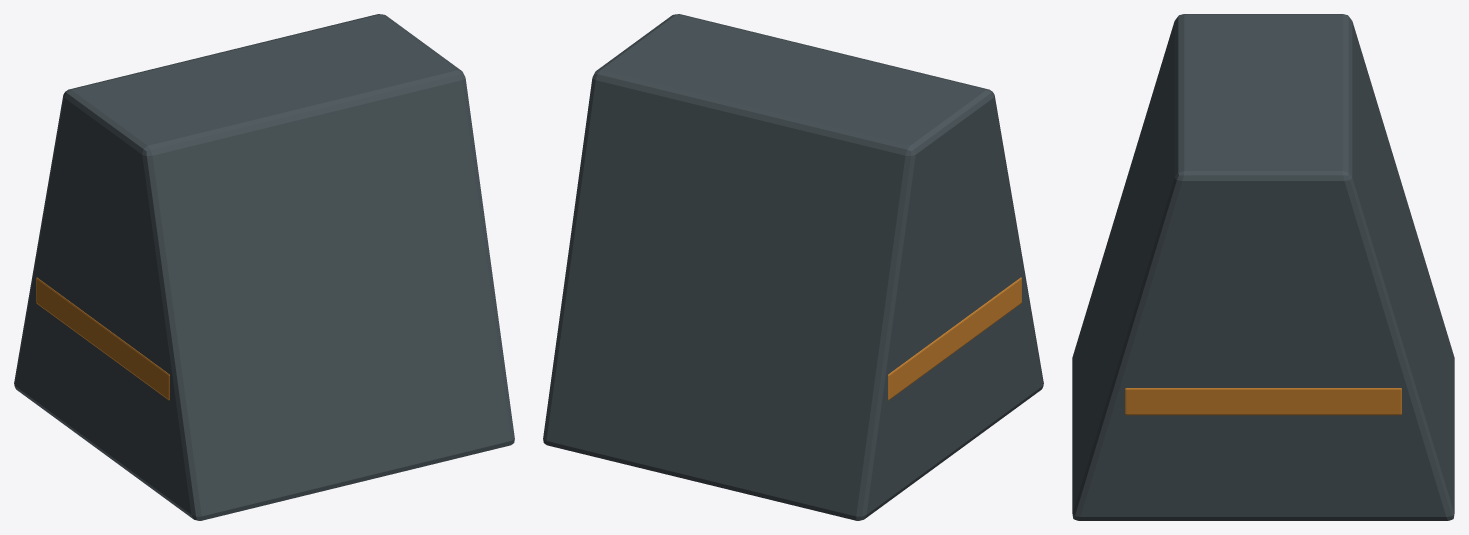
Rendered from prop_barrier.glb.
3 renders of one model, left to right at view 1: azimuth 30°, elevation 25°; view 2: azimuth 150°, elevation 25°; view 3: azimuth 270°, elevation 25°, orthographic. The views are drawn at different scales.
Parts seen in each view (by area): view 1: body, stripe; view 2: body, stripe; view 3: body, stripe.
Boxes of the visible parts, x1,y1,x2,y2 form: body: [14, 14, 514, 520]; stripe: [36, 277, 169, 400]; body: [543, 14, 1043, 520]; stripe: [888, 277, 1021, 400]; body: [1072, 14, 1454, 520]; stripe: [1125, 388, 1401, 415].
Size of the model in its own units: 1 by 1 by 0.9894.
